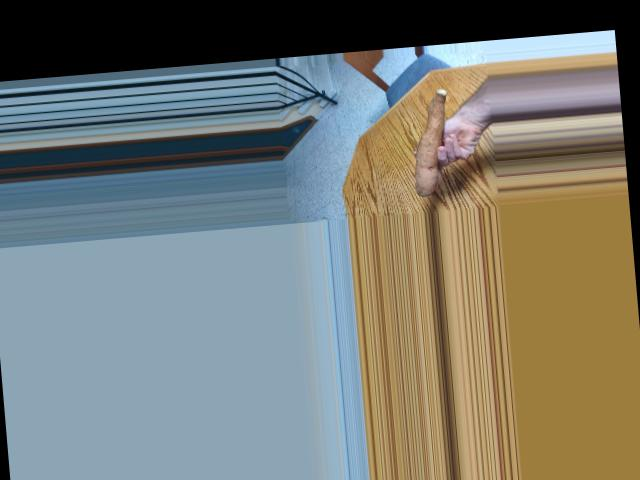sweet_potato: (402, 89, 461, 194)
